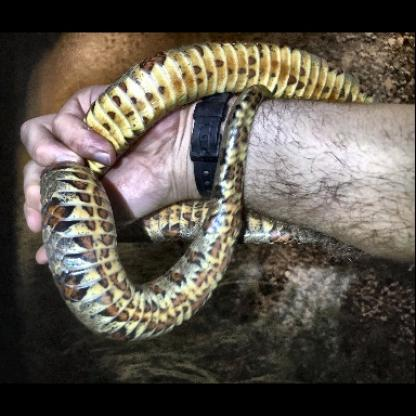Snake: (13, 46, 414, 345)
